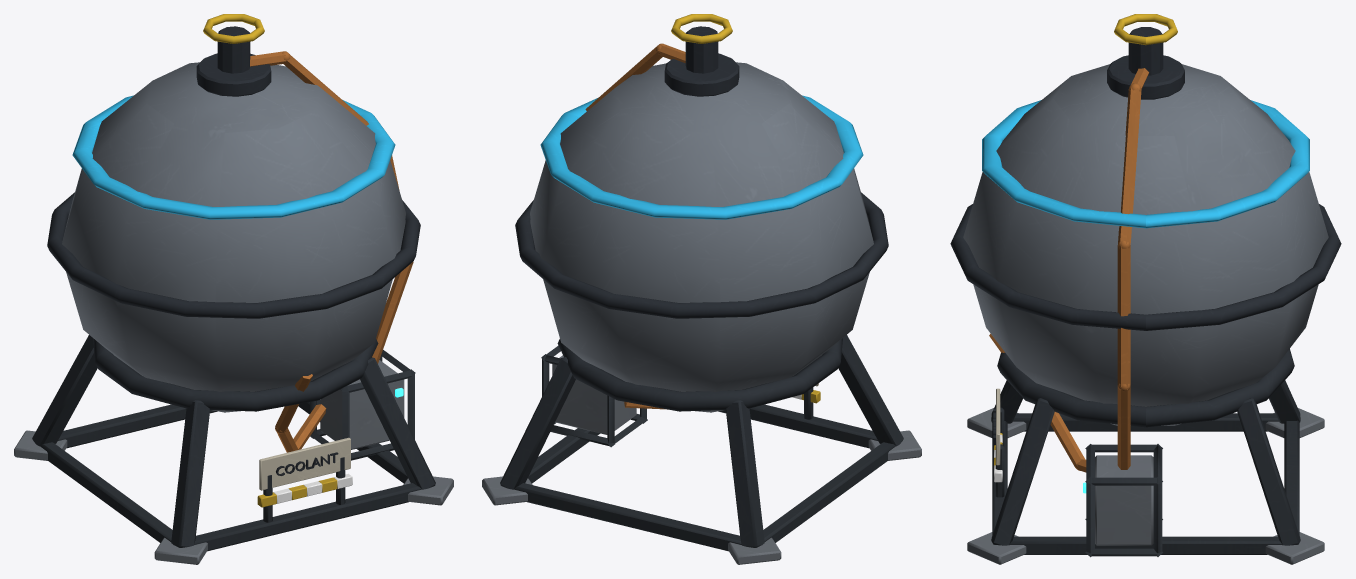
File: coolant_tank.glb
The picture shows the model from 3 angles, left to right: view 1: azimuth 30°, elevation 25°; view 2: azimuth 150°, elevation 25°; view 3: azimuth 270°, elevation 25°; orthographic projection. The views are drawn at different scales.
Visible parts, largest first — view 1: coolant_tank; view 2: coolant_tank; view 3: coolant_tank.
Part boxes in pixels (x1=…): coolant_tank: x1=14, y1=14, x2=453, y2=564; coolant_tank: x1=482, y1=14, x2=921, y2=564; coolant_tank: x1=950, y1=14, x2=1341, y2=564.
Size of the model in its own units: 1.83 by 2.36 by 1.8.
10 materials, 9 textured.
